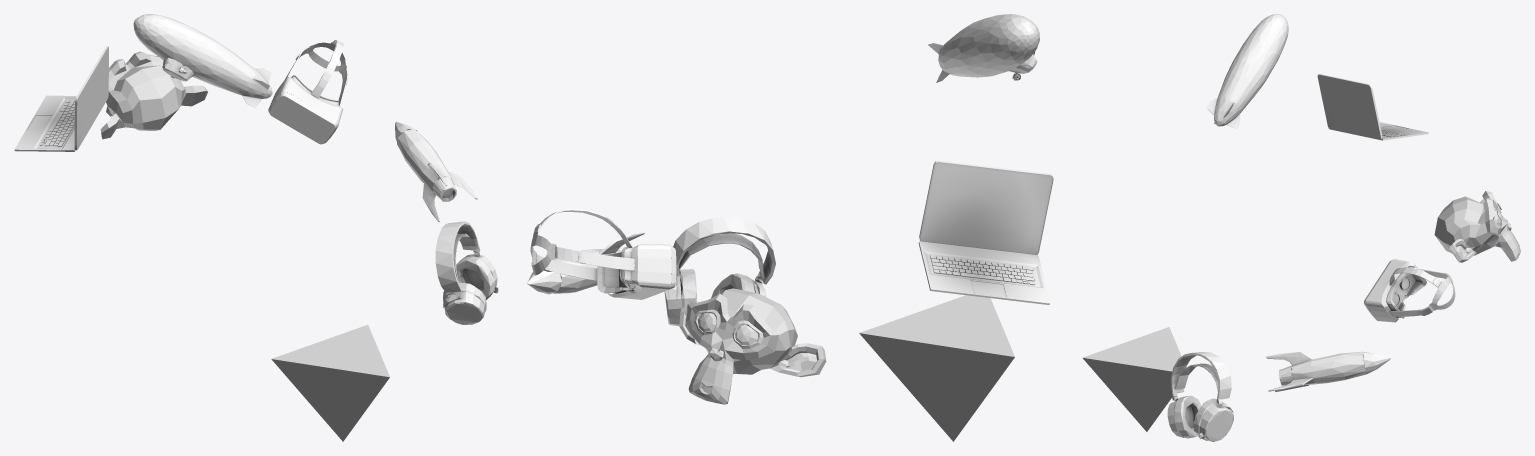
Rendered from spiral_scroll.glb.
3 renders of one model, left to right at view 1: azimuth 30°, elevation 25°; view 2: azimuth 150°, elevation 25°; view 3: azimuth 270°, elevation 25°, orthographic. The views are drawn at different scales.
Visible parts, largest first — view 1: Cone, Zeppelin, Suzanne, Headphones, Notebook, VR Headset, Rocket.003; view 2: Notebook, Cone, Suzanne, VR Headset, Zeppelin, Headphones, Rocket.003; view 3: Cone, Zeppelin, Suzanne, Headphones, Notebook, VR Headset, Rocket.003.
Boxes of the visible parts, x1=… form: Cone: x1=271, y1=324, x2=389, y2=441; Zeppelin: x1=133, y1=14, x2=272, y2=108; Suzanne: x1=100, y1=51, x2=207, y2=139; Headphones: x1=435, y1=221, x2=498, y2=324; Notebook: x1=14, y1=46, x2=108, y2=151; VR Headset: x1=268, y1=40, x2=348, y2=144; Rocket.003: x1=395, y1=121, x2=477, y2=221; Notebook: x1=918, y1=160, x2=1053, y2=304; Cone: x1=859, y1=295, x2=1014, y2=441; Suzanne: x1=679, y1=288, x2=826, y2=404; VR Headset: x1=530, y1=209, x2=676, y2=299; Zeppelin: x1=928, y1=14, x2=1039, y2=82; Headphones: x1=664, y1=217, x2=775, y2=326; Rocket.003: x1=527, y1=231, x2=644, y2=294; Cone: x1=1082, y1=327, x2=1181, y2=431; Zeppelin: x1=1206, y1=14, x2=1288, y2=129; Suzanne: x1=1434, y1=191, x2=1520, y2=262; Headphones: x1=1167, y1=352, x2=1233, y2=441; Notebook: x1=1317, y1=74, x2=1428, y2=140; VR Headset: x1=1364, y1=259, x2=1455, y2=322; Rocket.003: x1=1266, y1=351, x2=1390, y2=391.
Size of the model in its own units: 21.61 by 20.61 by 22.56.
Materials: 7 (5 with a texture image).
